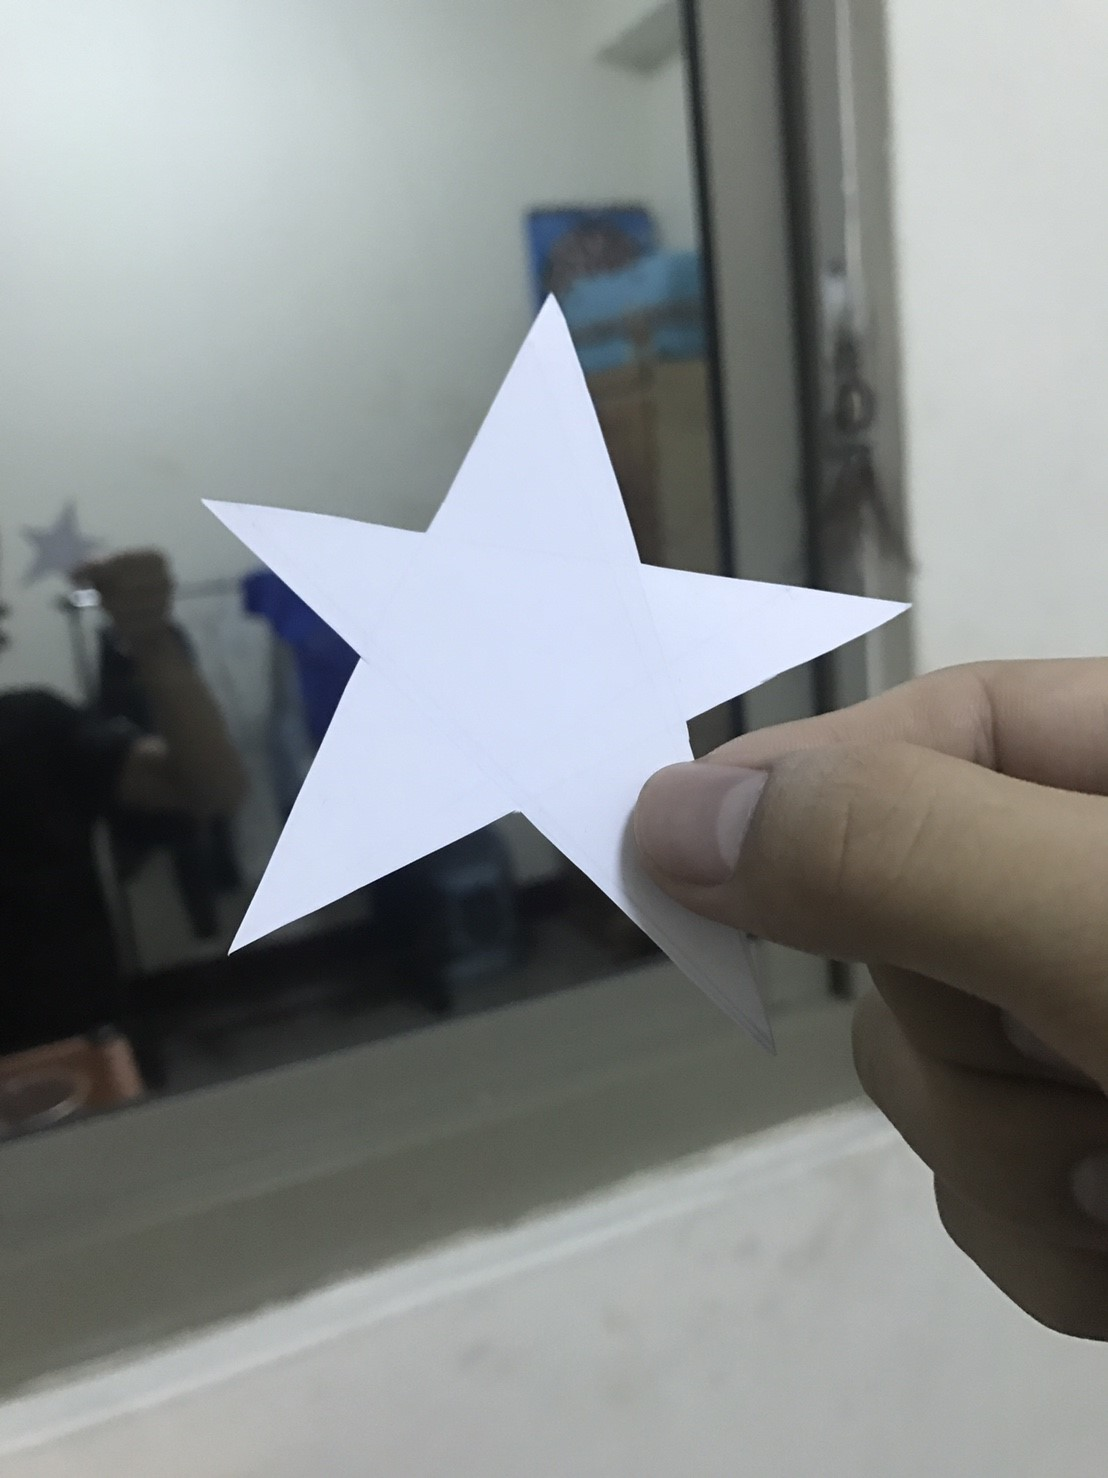star: (184, 285, 924, 1081)
